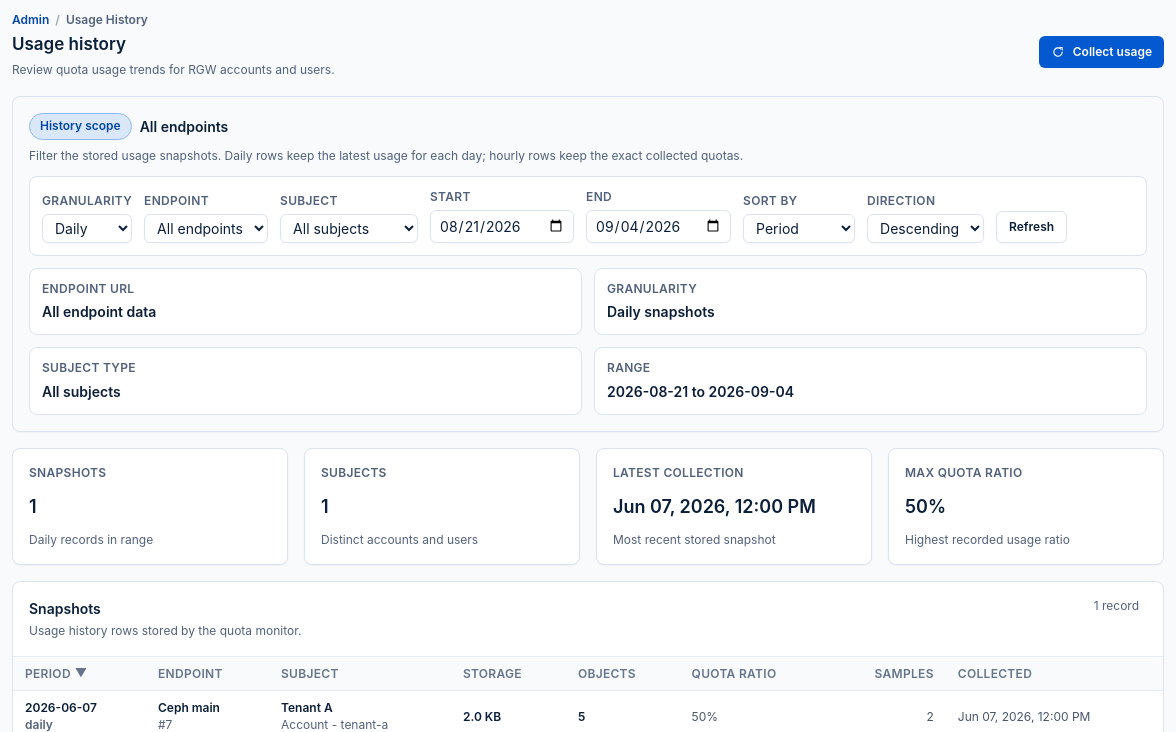
UsageHistoryPage › surfaces collection errors returned by the backend
Expected: the text "Tenant A" is shown, [281,700,333,715]
Click the button "Collect usage" at (1101, 52), box [1039,36,1164,68]
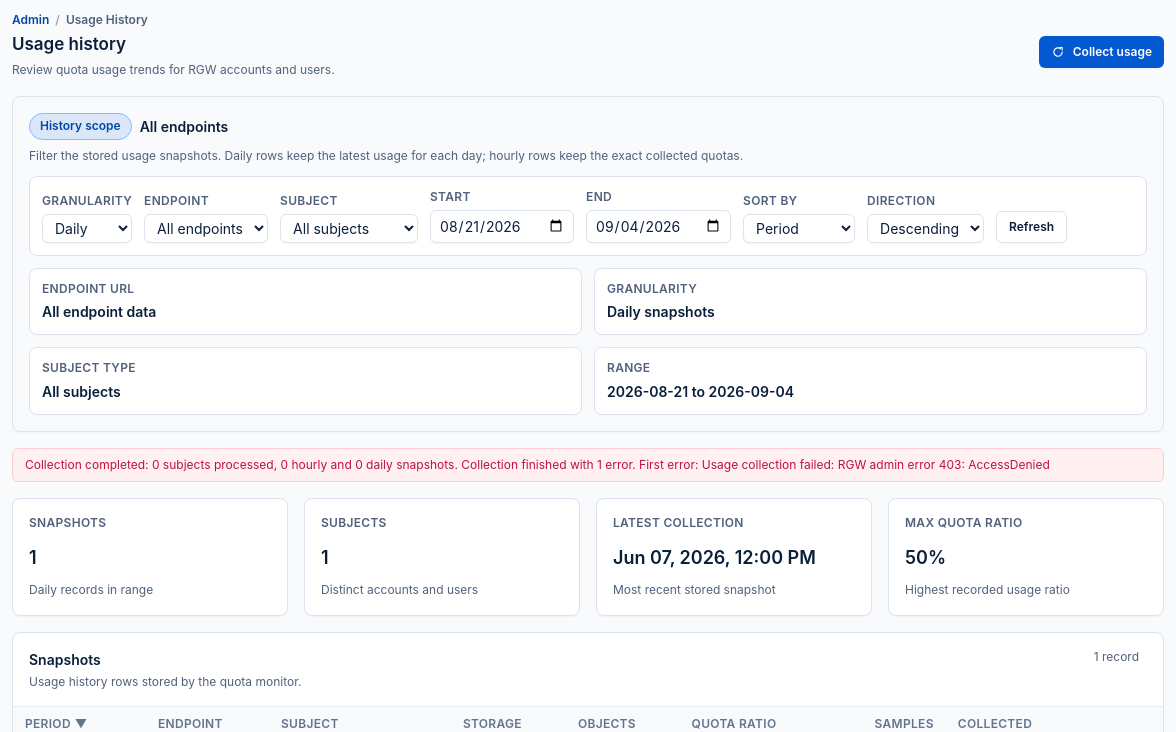
Expected: the text "First error: Usage collection failed" is shown, [25,456,1050,472]
